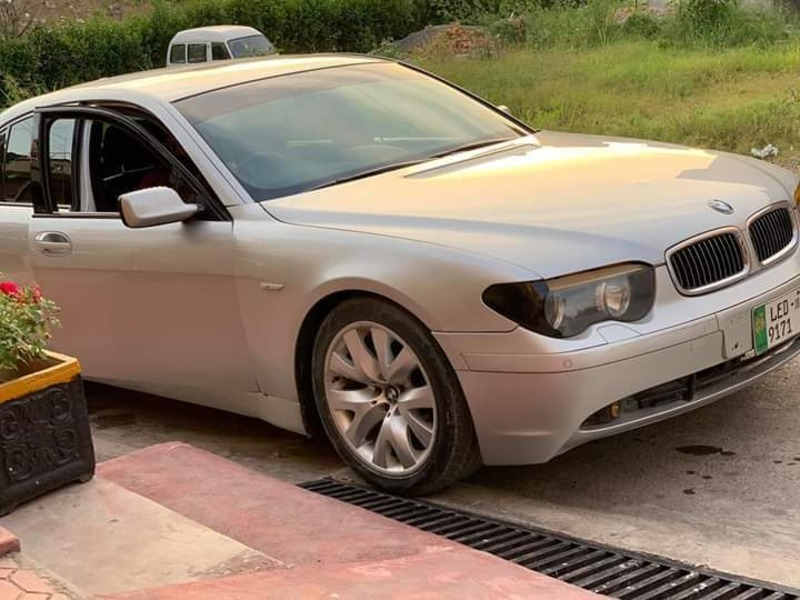License Plate: (749, 287, 800, 358)
